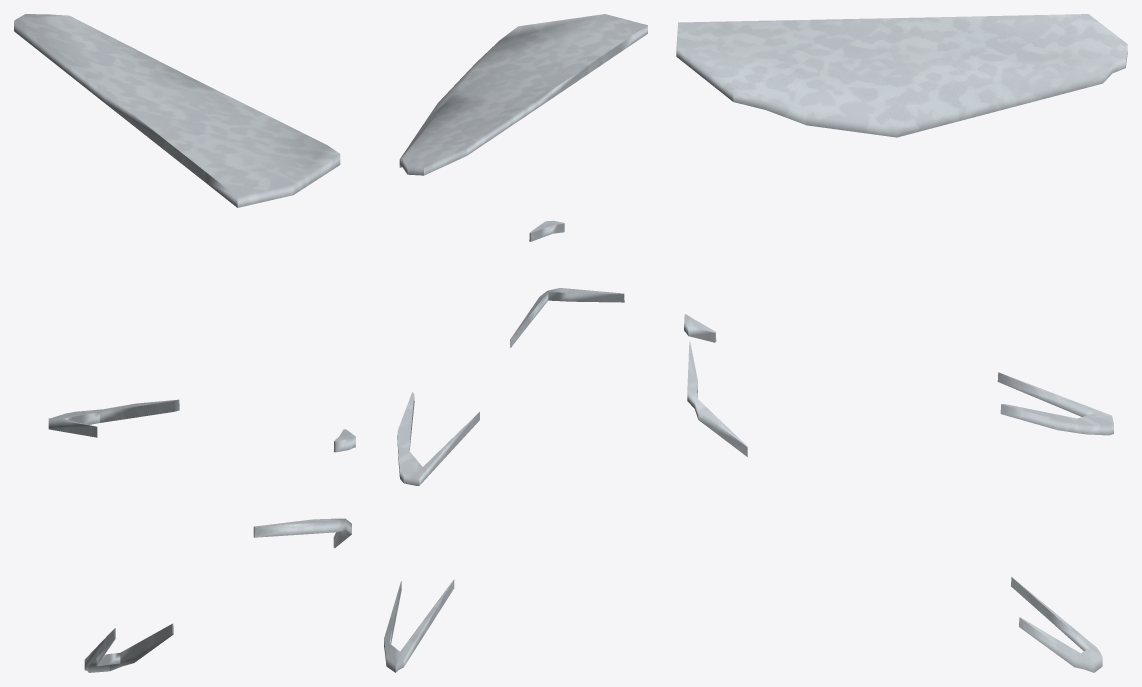
Rendered from Cliff_5_Snow.fbx.
3 renders of one model, left to right at view 1: azimuth 30°, elevation 25°; view 2: azimuth 150°, elevation 25°; view 3: azimuth 270°, elevation 25°, orthographic. The views are drawn at different scales.
Visible parts, largest first — view 1: Cliff_5_Snow; view 2: Cliff_5_Snow; view 3: Cliff_5_Snow.
Part boxes in pixels (x1,y1,x2,y2): Cliff_5_Snow: (14,14,355,672); Cliff_5_Snow: (384,14,647,672); Cliff_5_Snow: (676,14,1127,672).
Size of the model in its own units: 1132 by 5023 by 3334.
